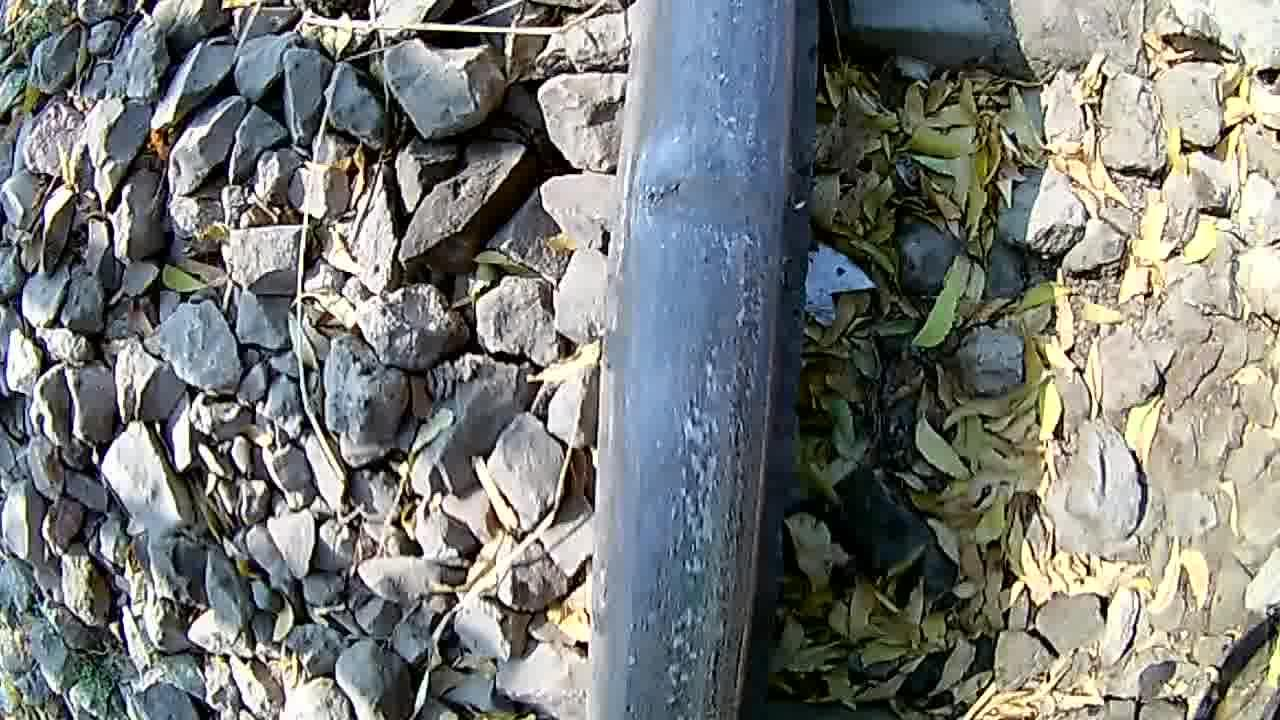bolt_missing: (634, 89, 793, 379)
